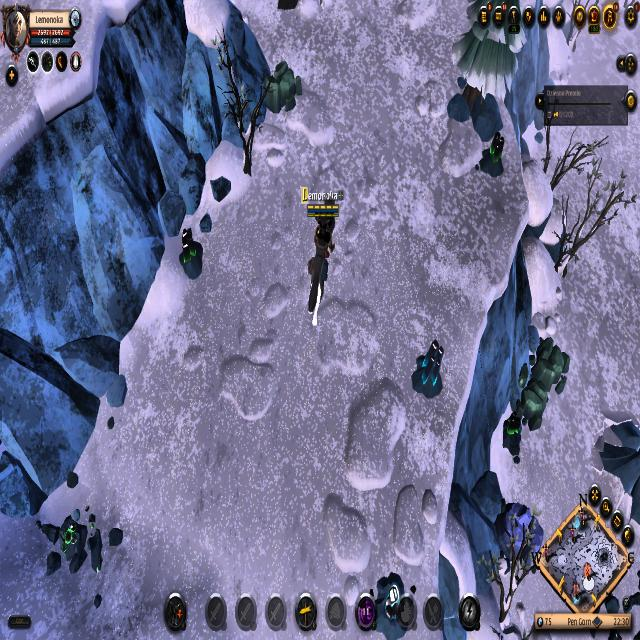ore tier 3: (177, 226, 207, 279), (480, 128, 506, 182)
ore tier 4: (411, 337, 446, 399)
rock tier 3: (260, 58, 305, 118)
